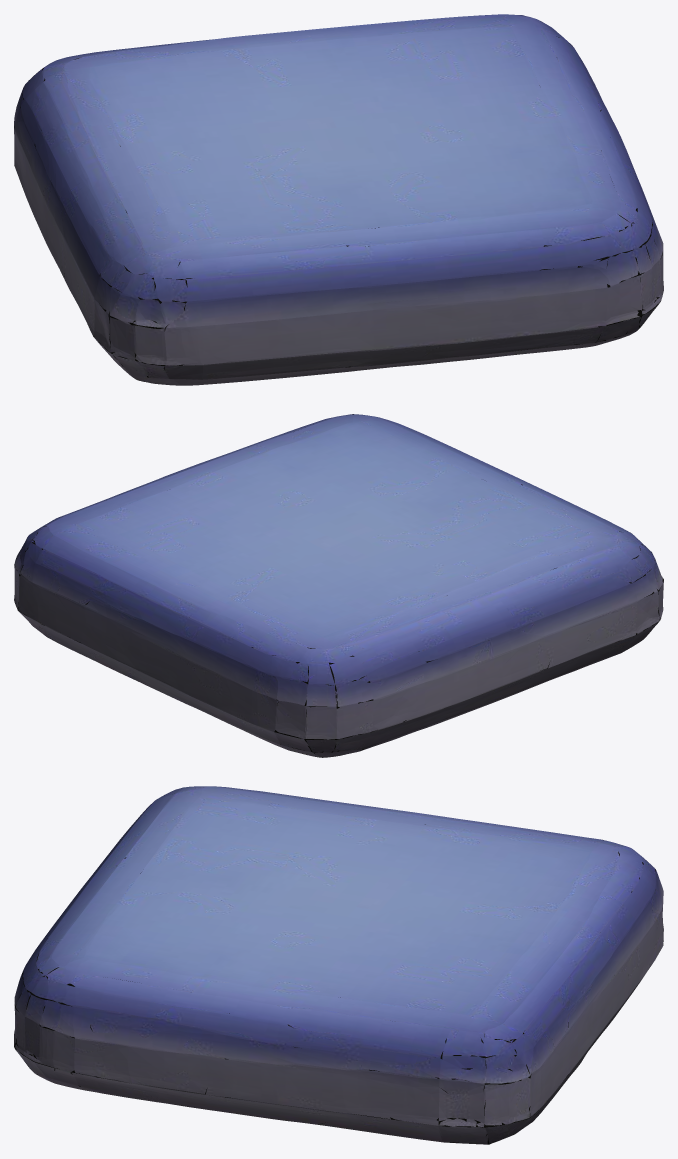
Rendered from blue_tablet_on_table_000.glb.
The picture shows the model from 3 angles, top to bottom: view 1: azimuth 30°, elevation 25°; view 2: azimuth 150°, elevation 25°; view 3: azimuth 270°, elevation 25°; orthographic projection. The views are drawn at different scales.
Visible parts, largest first — view 1: phase2_final_blue_tablet_on_table_000.obj; view 2: phase2_final_blue_tablet_on_table_000.obj; view 3: phase2_final_blue_tablet_on_table_000.obj.
Part boxes in pixels (x1,y1,x2,y2): phase2_final_blue_tablet_on_table_000.obj: (14, 14, 663, 385); phase2_final_blue_tablet_on_table_000.obj: (14, 414, 663, 757); phase2_final_blue_tablet_on_table_000.obj: (14, 786, 663, 1144).
Bounding box in the file's own units: 0.0954 × 0.019 × 0.093.
1 material, 1 textured.
